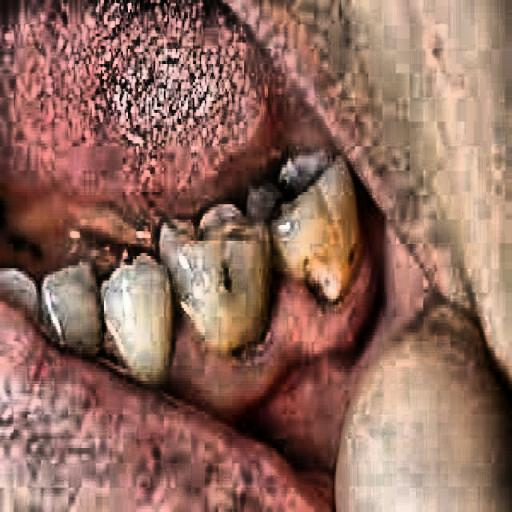Caries: (180, 107, 392, 298)
